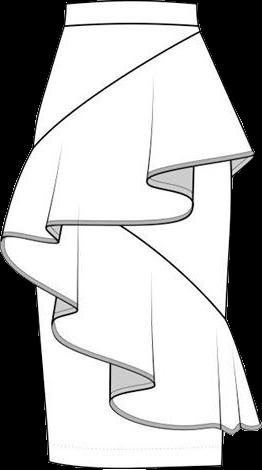Hemline: (0, 238, 261, 435), (0, 152, 253, 244), (47, 459, 224, 469)
Waistline: (33, 146, 225, 318), (32, 30, 201, 148), (64, 19, 200, 30), (64, 0, 195, 8)
